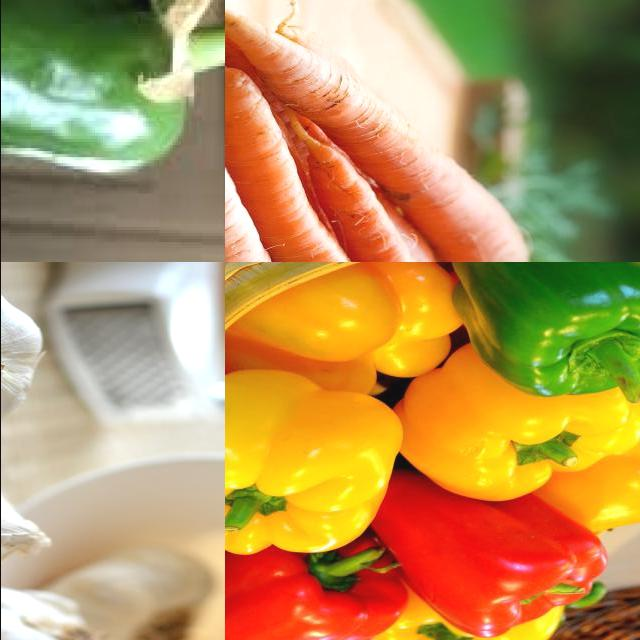bell_pepper: (357, 468, 611, 638), (397, 331, 640, 504), (225, 263, 470, 408), (1, 1, 203, 176), (225, 369, 405, 555), (437, 263, 640, 400), (225, 540, 407, 640)
carrot: (225, 1, 529, 263), (225, 71, 435, 263), (286, 128, 497, 263), (225, 136, 340, 263)
garlic: (1, 442, 55, 615)
